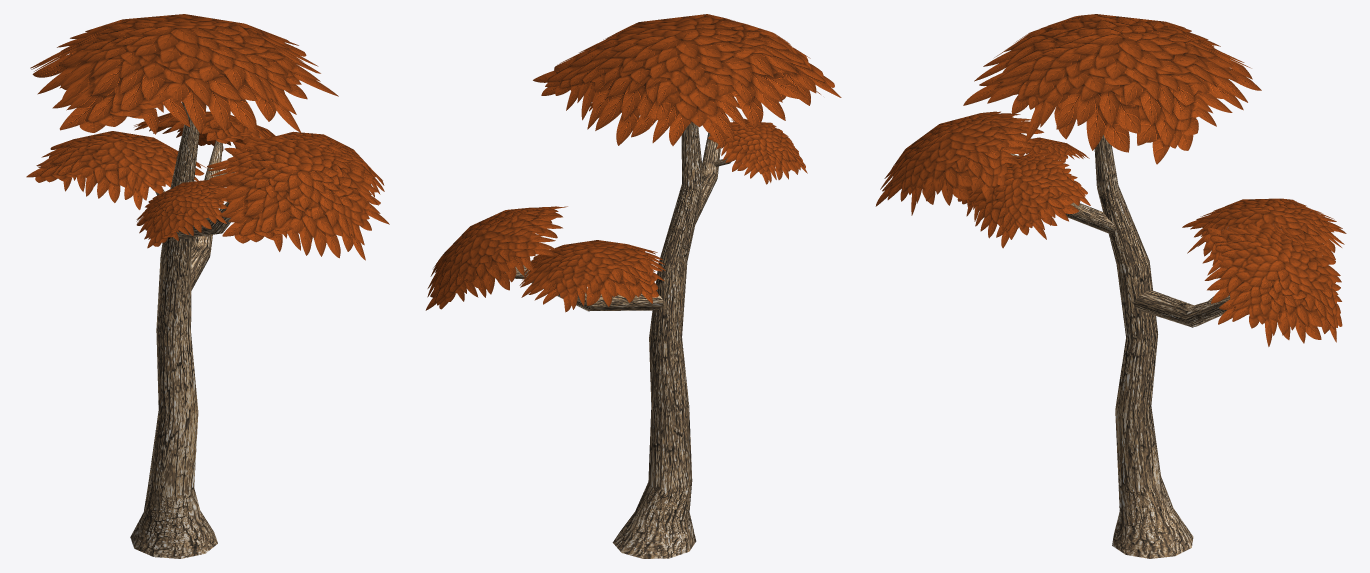
Rendered from Árvore 2.fbx.
3 views of the same model, side by side, from view 1: azimuth 30°, elevation 25°; view 2: azimuth 150°, elevation 25°; view 3: azimuth 270°, elevation 25° (orthographic). The views are drawn at different scales.
Visible parts, largest first — view 1: Árvore 2; view 2: Árvore 2; view 3: Árvore 2.
Part boxes in pixels (x1=…): Árvore 2: x1=26, y1=14, x2=389, y2=558; Árvore 2: x1=425, y1=14, x2=841, y2=558; Árvore 2: x1=875, y1=14, x2=1346, y2=558.
Bounding box in the file's own units: 6.35 × 9.49 × 8.36.
